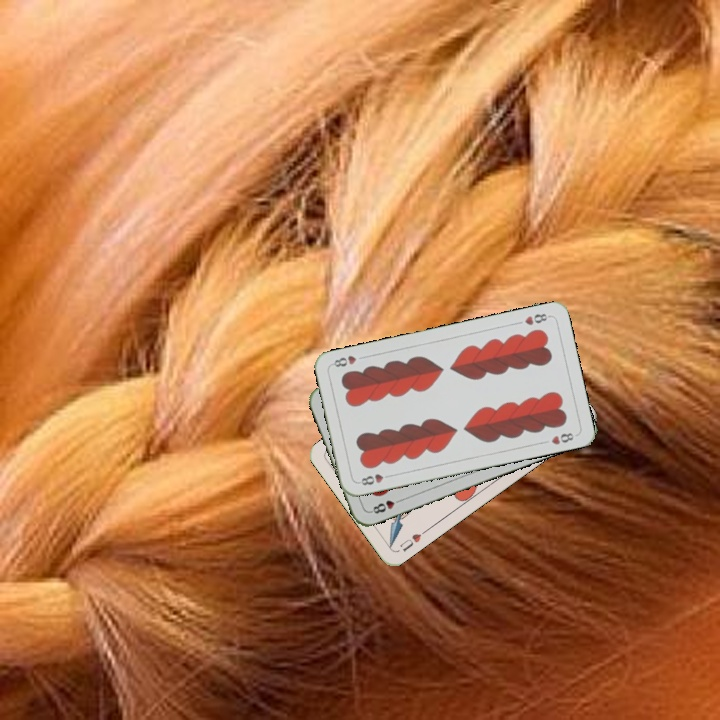H8: (366, 494, 405, 516), (354, 470, 395, 488), (521, 309, 553, 328)
HU: (395, 529, 424, 554)
